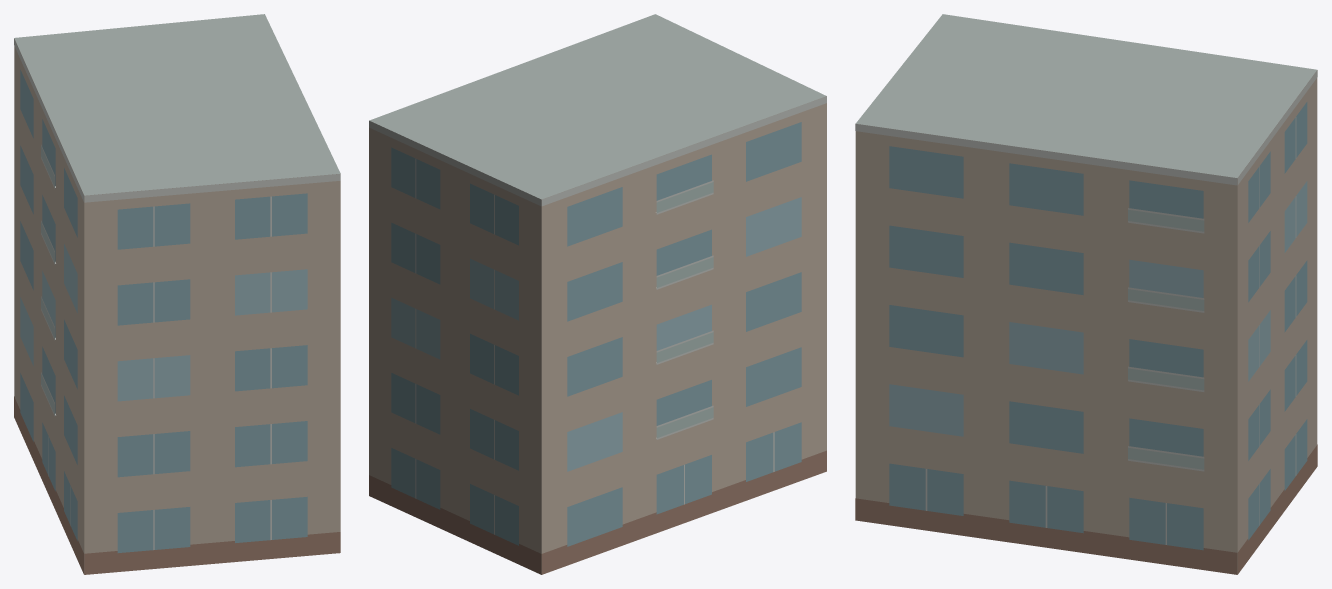
Rendered from survey-upis-32868957.glb.
The picture shows the model from 3 angles, left to right: view 1: azimuth 30°, elevation 25°; view 2: azimuth 150°, elevation 25°; view 3: azimuth 270°, elevation 25°; orthographic projection. The views are drawn at different scales.
Parts seen in each view (by area): view 1: survey-upis-32868957.tmp; view 2: survey-upis-32868957.tmp; view 3: survey-upis-32868957.tmp.
Boxes of the visible parts, x1=… form: survey-upis-32868957.tmp: x1=14, y1=14, x2=340, y2=574; survey-upis-32868957.tmp: x1=369, y1=14, x2=826, y2=574; survey-upis-32868957.tmp: x1=855, y1=14, x2=1317, y2=574.
Size of the model in its own units: 11.63 by 13.1 by 13.84.
